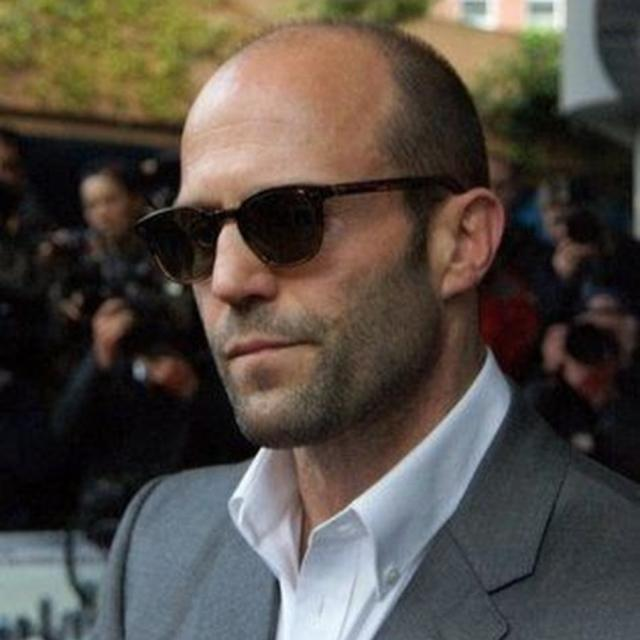no_helmet: (154, 0, 531, 261)
